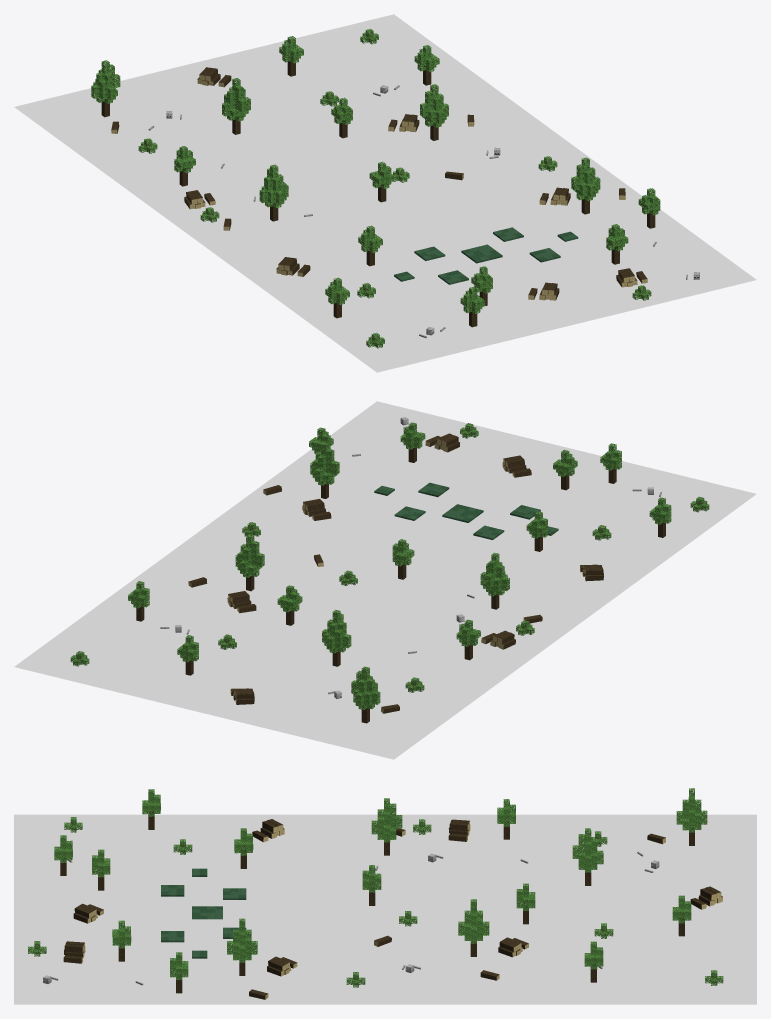
The model's file is Map_Chap1.fbx.
3 renders of one model, top to bottom at view 1: azimuth 30°, elevation 25°; view 2: azimuth 150°, elevation 25°; view 3: azimuth 270°, elevation 25°, orthographic. The views are drawn at different scales.
Visible parts, largest first — view 1: map.tren1.g, map.duoi1.g, tree3.010, tree3.005, tree3.039, tree3.008, tree3.002, tree3.013; view 2: map.tren1.g, map.duoi1.g, tree3.010, tree3.002, tree3.008, tree3.005, tree3.039; view 3: map.tren1.g, map.duoi1.g, tree3.008, tree3.005, tree3.002, tree3.010, tree3.039, tree3.004, tree3.048, tree3.011, tree3.013, tree3.055 (+7 smaller).
Boxes of the visible parts, <box> form: map.tren1.g: <box>14,14,612,267</box>; map.duoi1.g: <box>233,175,756,372</box>; tree3.010: <box>91,60,120,117</box>; tree3.005: <box>259,164,288,221</box>; tree3.039: <box>571,157,600,214</box>; tree3.008: <box>222,78,250,134</box>; tree3.002: <box>420,84,448,140</box>; tree3.013: <box>414,45,439,85</box>; map.tren1.g: <box>14,506,612,759</box>; map.duoi1.g: <box>233,401,756,598</box>; tree3.010: <box>351,666,380,723</box>; tree3.002: <box>235,534,264,591</box>; tree3.008: <box>322,609,351,666</box>; tree3.005: <box>480,552,509,609</box>; tree3.039: <box>310,442,339,498</box>; map.tren1.g: <box>308,814,756,1004</box>; map.duoi1.g: <box>14,814,307,1004</box>; tree3.008: <box>572,828,603,885</box>; tree3.005: <box>371,798,402,855</box>; tree3.002: <box>458,899,489,956</box>; tree3.010: <box>676,788,707,845</box>; tree3.039: <box>227,918,257,975</box>; tree3.004: <box>362,865,381,905</box>; tree3.048: <box>112,920,131,961</box>; tree3.011: <box>672,895,691,936</box>; tree3.013: <box>584,941,603,982</box>; tree3.055: <box>92,849,110,890</box>.
Size of the model in its own units: 696 by 96.78 by 1152.
Materials: 6 (4 with a texture image).
